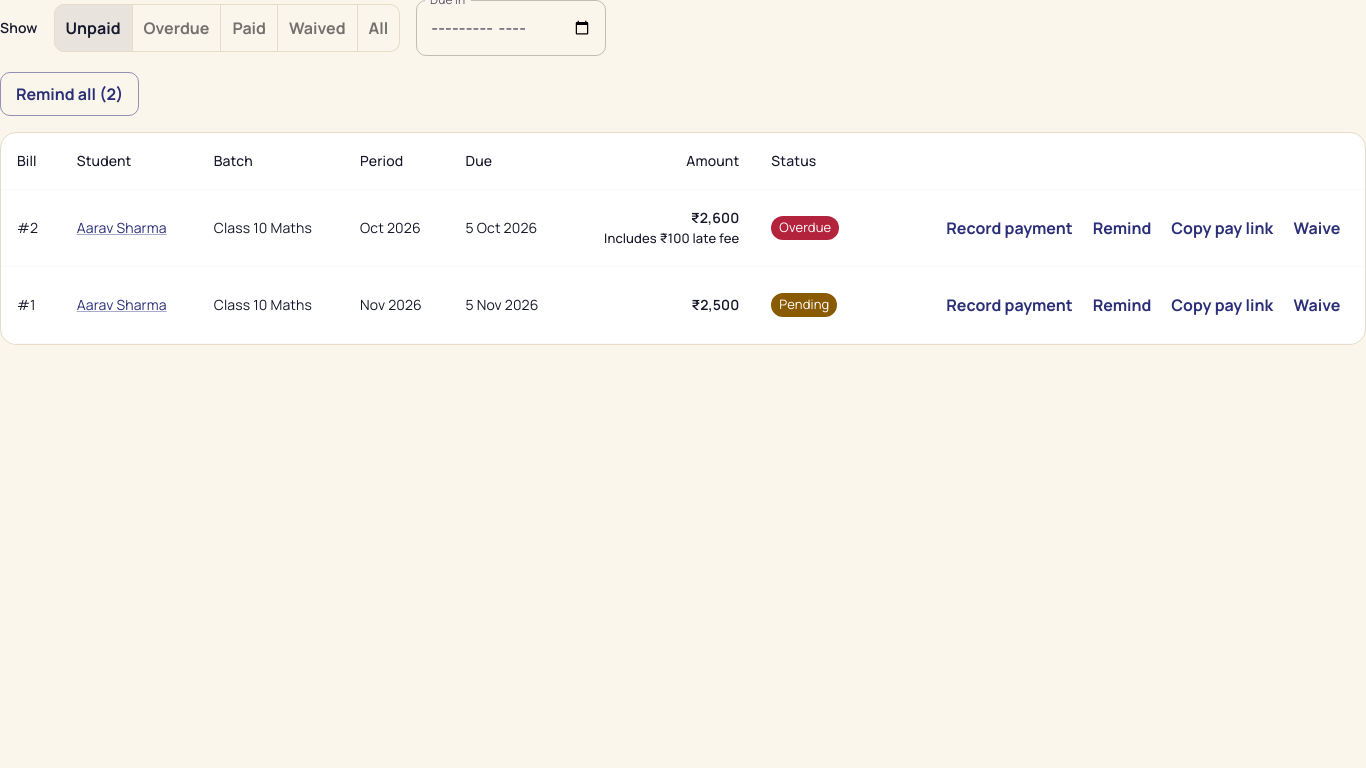
it: InvoiceList › records a payment, by UPI with its reference, and says which receipt it got
Expected: the table is shown, [1, 133, 1365, 344]
Click the button with aria-label "Record payment for bill #1" at point(1009, 305), box [938, 283, 1081, 327]
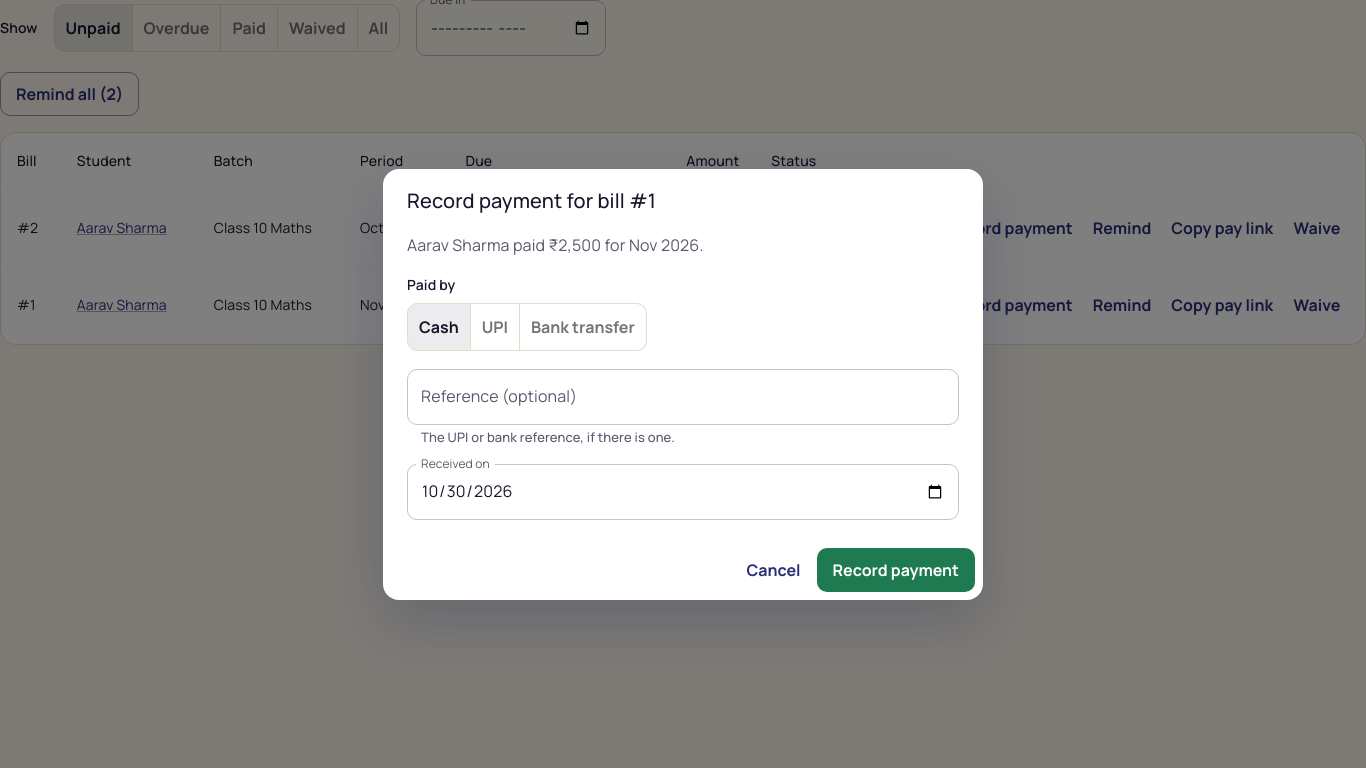
Expected: the dialog "Record payment for bill #1" shows "Aarav Sharma paid ₹2,500 for Nov 2026.", [407, 234, 704, 256]
Click the button "UPI" at point(495, 326), box [470, 302, 520, 350]
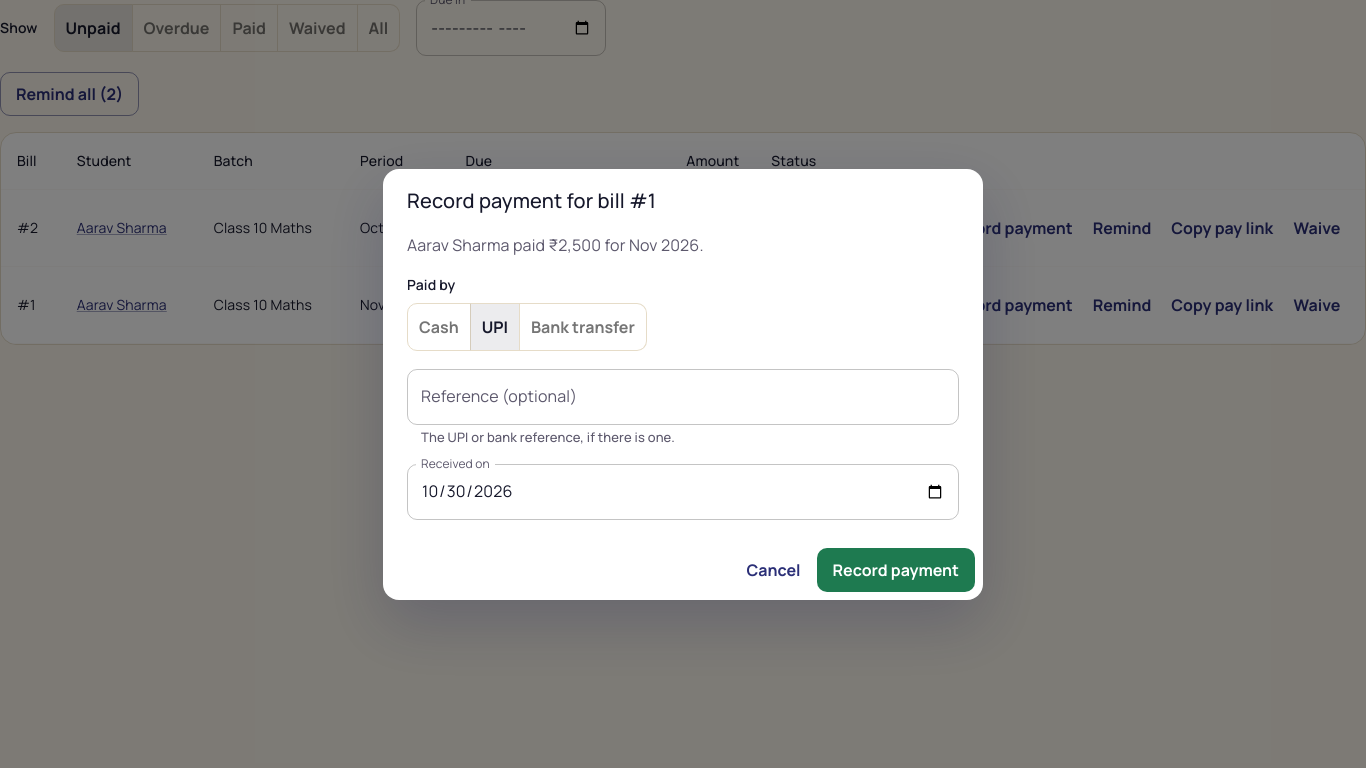
Type "412345678901" into the field labelled "Reference (optional)" at point(683, 396), box [407, 368, 959, 424]
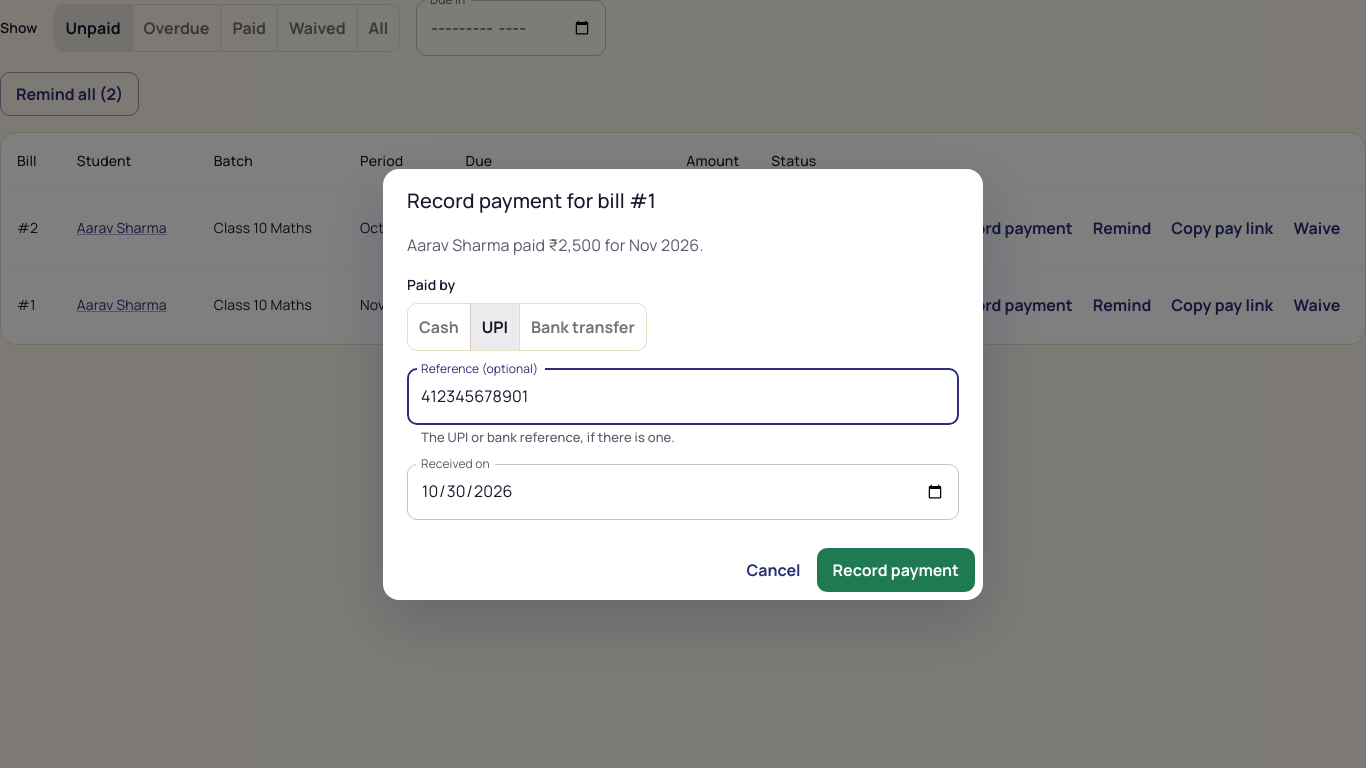
Click the button "Record payment" at point(896, 570), box [816, 548, 975, 592]
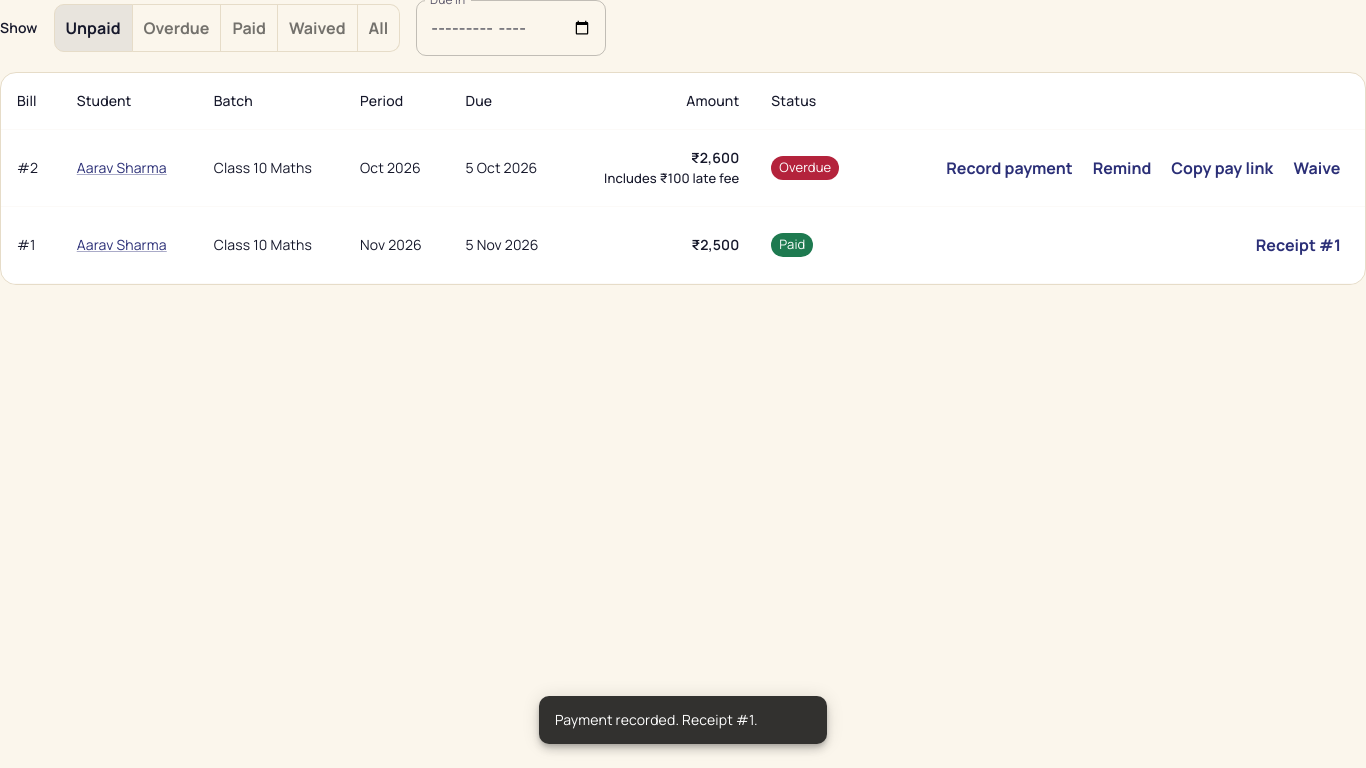
Expected: the text "Payment recorded. Receipt #1." is shown, [555, 710, 758, 729]
Expected: the 3rd row shows "Paid", [779, 235, 805, 253]
Expected: the heading "Record payment for bill #1" is gone
